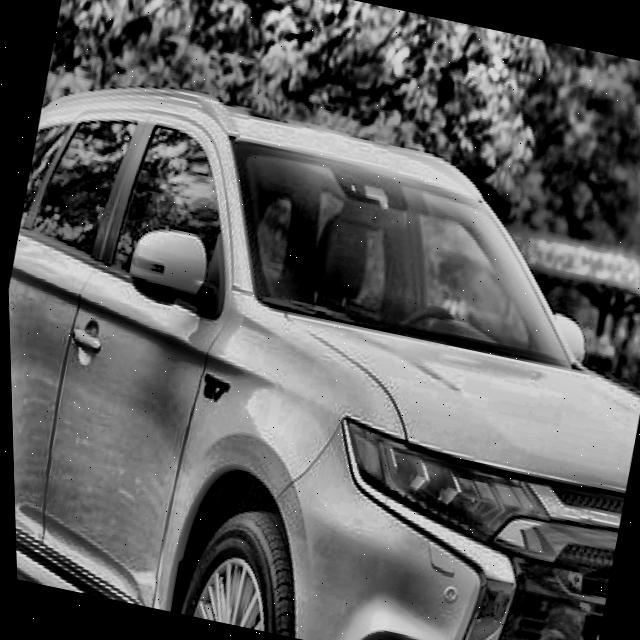light_vehicle: (1, 61, 640, 640)
